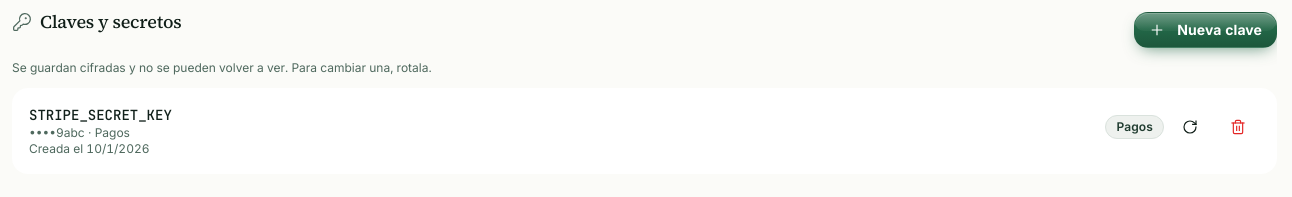
Test: SecretsSection: rotar y revocar › «No» cancela la revocación sin llamar al servidor
Click the button named "Revocar STRIPE_SECRET_KEY". click: (1238, 127)
box: [1216,105,1260,149]
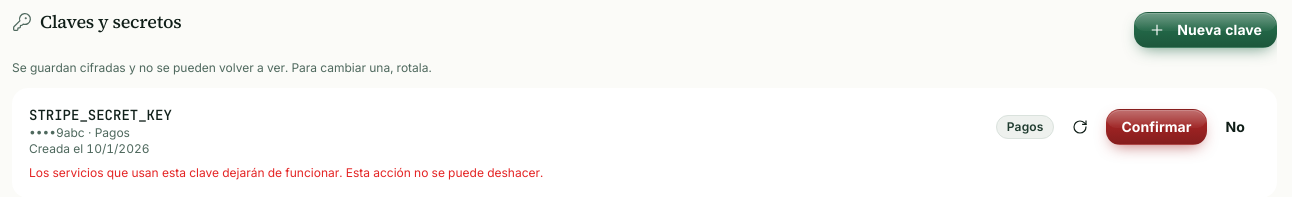
Click the button "No". click: (1235, 127)
box: [1211,109,1260,145]
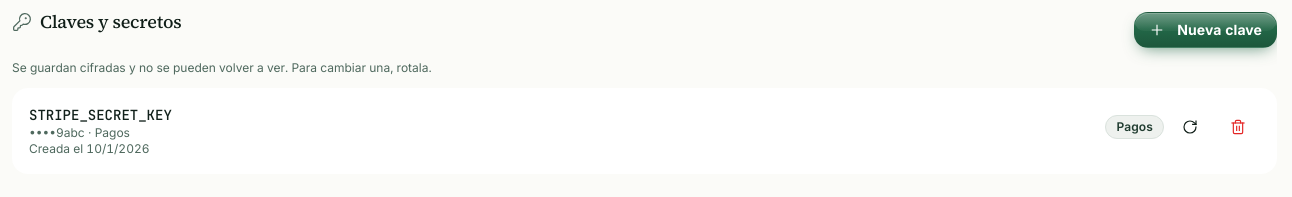
Result: the text "dejarán de funcionar" is gone
